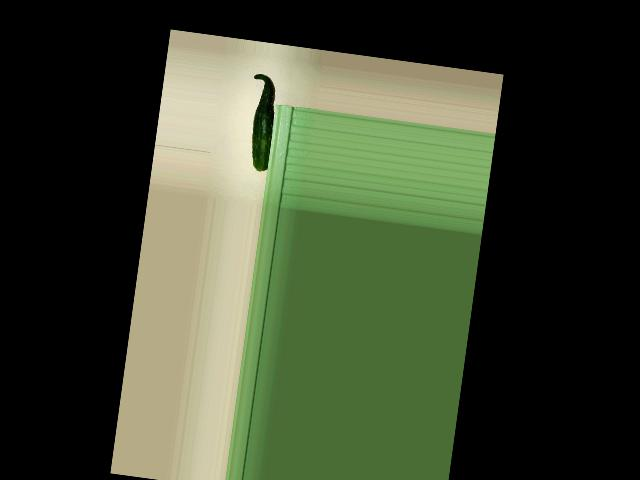cucumber: (242, 73, 280, 171)
